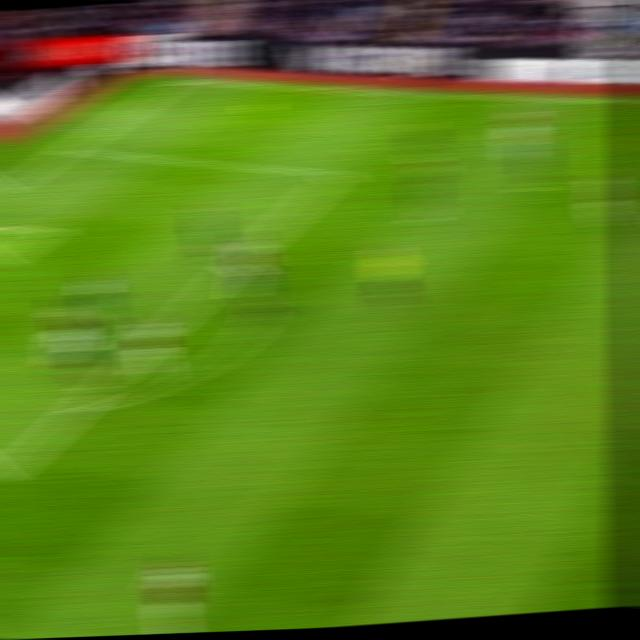bigarea_top_inner: (319, 160, 352, 187)
bigarea_top_outter: (52, 139, 84, 159)
bottom_arc_area_intersection: (60, 394, 96, 424)
corner: (167, 73, 197, 87)
smallarea_top_inner: (31, 220, 65, 242)
top_arc_area_intersection: (222, 257, 249, 272)
